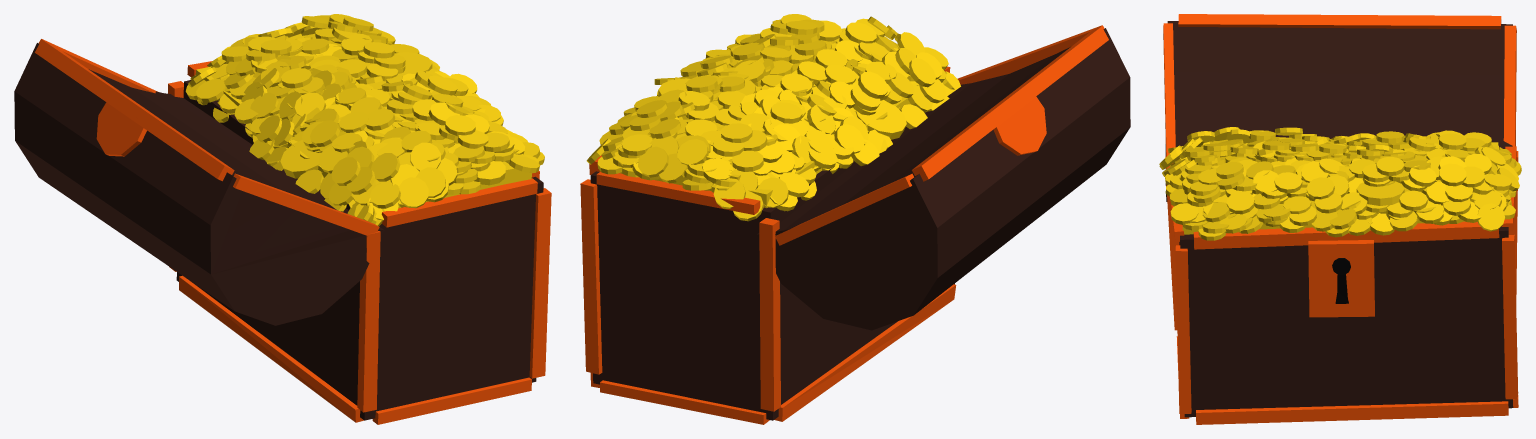
Rendered from model-fine.obj.
3 views of the same model, side by side, from view 1: azimuth 30°, elevation 25°; view 2: azimuth 150°, elevation 25°; view 3: azimuth 270°, elevation 25° (orthographic). The views are drawn at different scales.
Parts seen in each view (by area): view 1: group944139164, group1673624899, group1849654143, group1253408431, group1176336403, group1188779229, group833255169, group929752709, group2141862034, group608746827, group429445012.002, group1596027011 (+19 smaller); view 2: group944139164, group1673624899, group1849654143, group2130799938, group1135518375, group1176336403, group621290532, group1111637101, group608746827, group1596027011, group2141862034, group429445012.002 (+15 smaller); view 3: group1673624899, group944139164, group89601079, group1948885995, group1849654143, group1276403759, group1135518375, group1188779229, group1596027011, group2141862034, group429445012, group1253408431 (+33 smaller).
Part boxes in pixels (x1=…): group944139164: x1=14, y1=43, x2=384, y2=325; group1673624899: x1=176, y1=79, x2=543, y2=420; group1849654143: x1=35, y1=39, x2=234, y2=181; group1253408431: x1=357, y1=231, x2=380, y2=412; group1176336403: x1=179, y1=275, x2=363, y2=422; group1188779229: x1=529, y1=188, x2=551, y2=378; group833255169: x1=381, y1=178, x2=537, y2=227; group929752709: x1=372, y1=377, x2=531, y2=424; group2141862034: x1=233, y1=173, x2=379, y2=235; group608746827: x1=96, y1=102, x2=146, y2=156; group429445012.002: x1=280, y1=140, x2=321, y2=178; group1596027011: x1=38, y1=39, x2=157, y2=93; group944139164: x1=757, y1=28, x2=1130, y2=330; group1673624899: x1=590, y1=160, x2=954, y2=420; group1849654143: x1=912, y1=26, x2=1108, y2=181; group2130799938: x1=759, y1=218, x2=780, y2=411; group1135518375: x1=580, y1=179, x2=602, y2=374; group1176336403: x1=774, y1=284, x2=956, y2=421; group621290532: x1=596, y1=171, x2=760, y2=214; group1111637101: x1=600, y1=380, x2=769, y2=424; group608746827: x1=993, y1=96, x2=1046, y2=155; group1596027011: x1=775, y1=173, x2=913, y2=245; group2141862034: x1=957, y1=25, x2=1104, y2=84; group429445012.002: x1=856, y1=100, x2=906, y2=139; group1673624899: x1=1179, y1=226, x2=1513, y2=417; group944139164: x1=1165, y1=21, x2=1512, y2=201; group89601079: x1=1196, y1=401, x2=1508, y2=424; group1948885995: x1=1308, y1=240, x2=1374, y2=317; group1849654143: x1=1178, y1=14, x2=1501, y2=29; group1276403759: x1=1193, y1=221, x2=1499, y2=249; group1135518375: x1=1502, y1=234, x2=1518, y2=399; group1188779229: x1=1175, y1=245, x2=1191, y2=413; group1596027011: x1=1503, y1=25, x2=1516, y2=146; group2141862034: x1=1163, y1=23, x2=1175, y2=156; group429445012: x1=1356, y1=181, x2=1404, y2=205; group1253408431: x1=1165, y1=168, x2=1179, y2=330.
Size of the model in its own units: 0.4092 by 0.3171 by 0.3855.
